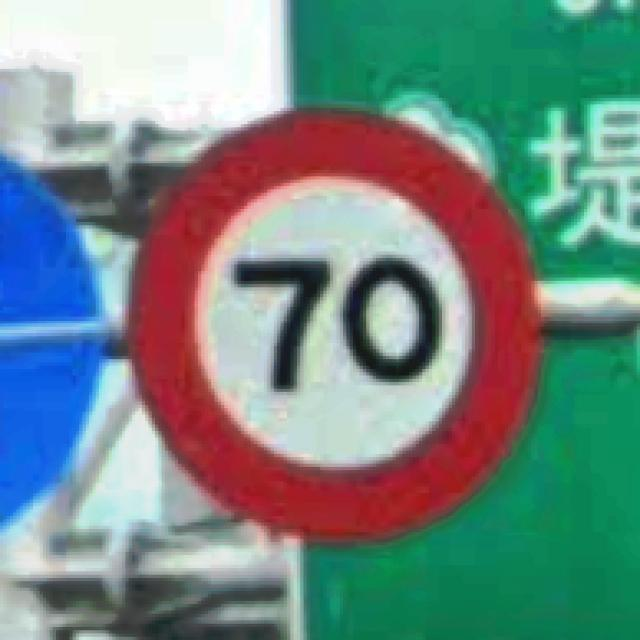max70: (122, 101, 544, 542)
